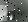person: (1, 6, 8, 22), (9, 9, 16, 20)
